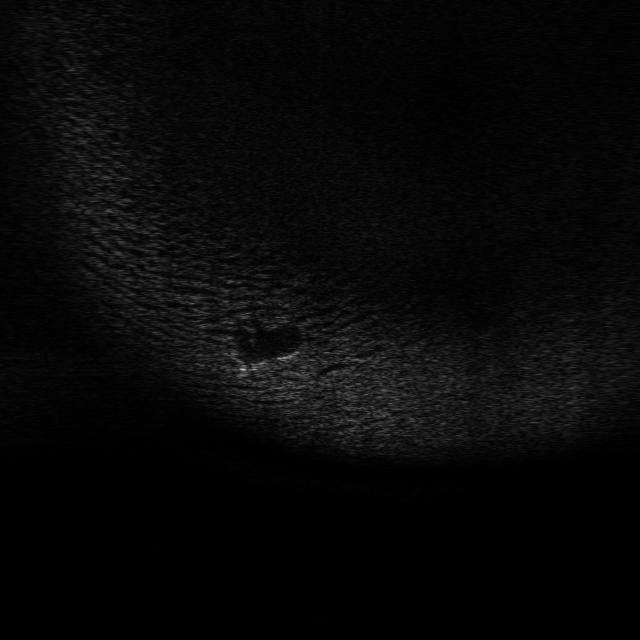plane: (224, 349, 304, 380)
